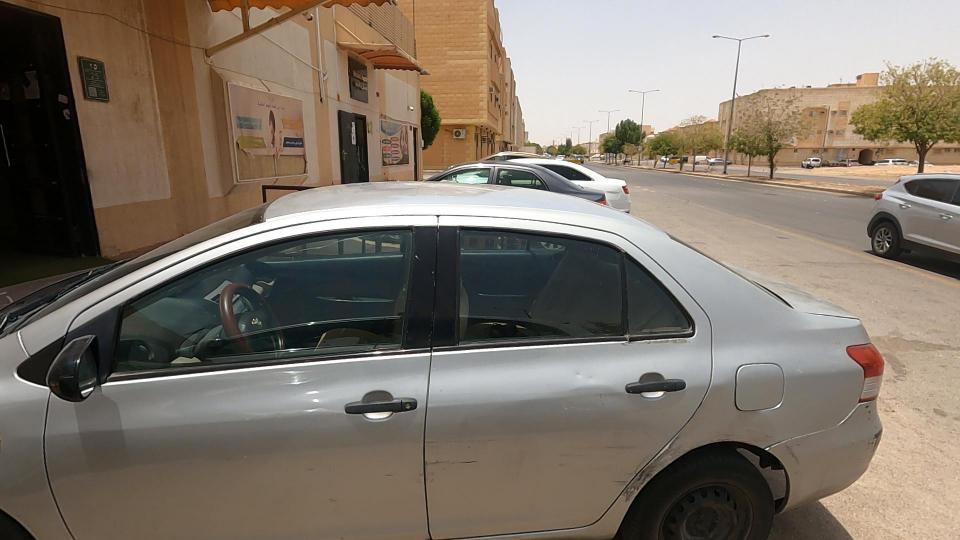BAD_BILLBOARD: (137, 24, 401, 236)
